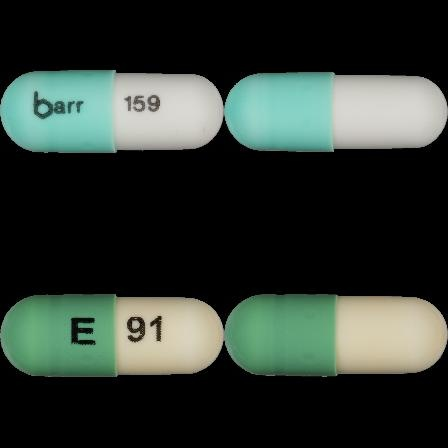64725-0159: (0, 0, 224, 224)
